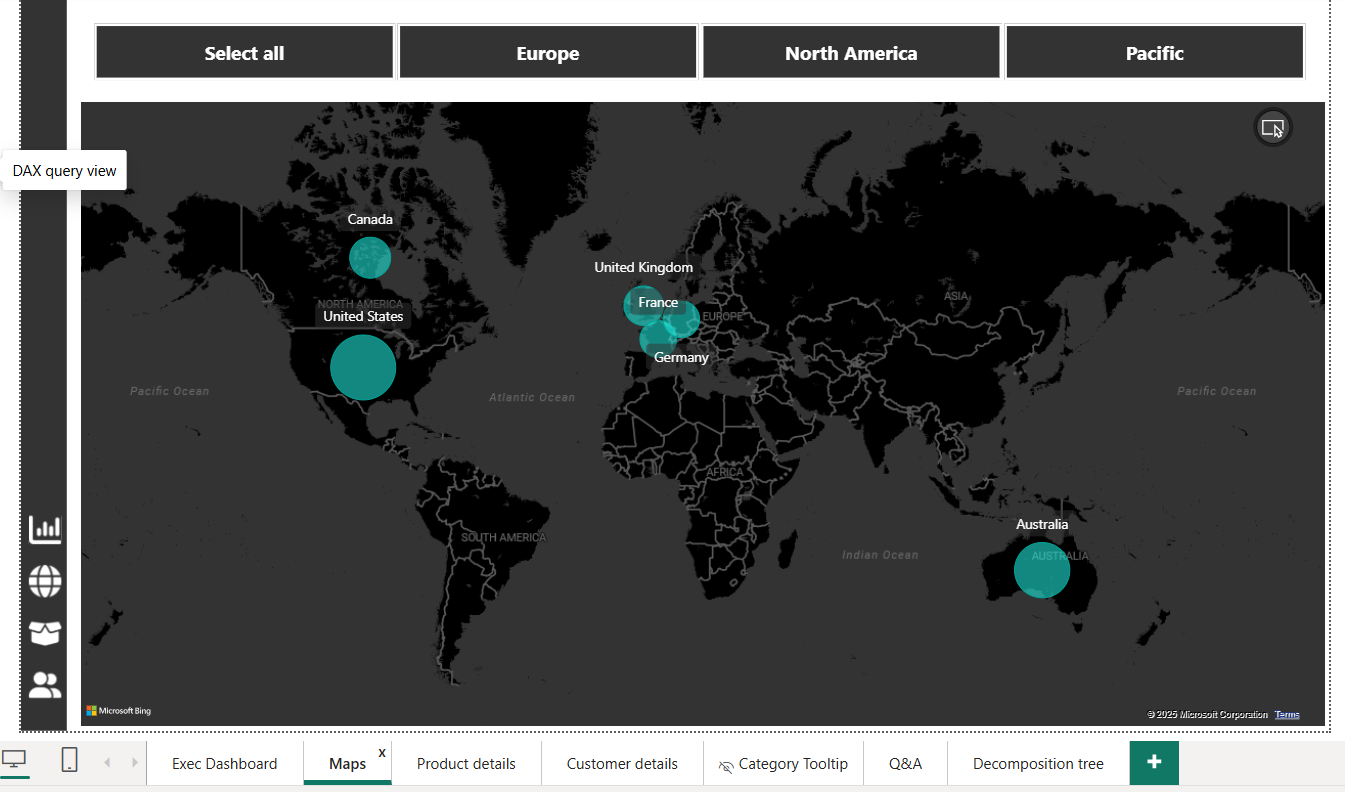

Layout of this report page (visuals, bound fields, positions):
{"tool":"powerbi","page":{"name":"Maps","canvas":[1280,720],"ordinal":1},"visuals":[{"type":"shape","box":[0,0,45,719.8],"z":0},{"type":"actionButton","box":[3.1,603.8,39.8,41.1],"z":0,"group":"g1"},{"type":"actionButton","box":[3.1,502.6,39.8,41.1],"z":1000,"group":"g1"},{"type":"map","fields":{"Category":["Territory Lookup.Country"],"Size":["Measure Table.Total Orders"]},"box":[53.5,100.8,1226.5,619.5],"z":1000},{"type":"slicer","fields":{"Values":["Territory Lookup.Continent"]},"box":[44.8,21.1,1235.3,69.7],"z":2000},{"type":"actionButton","box":[3.1,553.2,39.8,41.1],"z":2000,"group":"g1"},{"type":"actionButton","box":[3.1,654.4,39.8,41.1],"z":3000,"group":"g1"},{"type":"group","id":"g1","title":"Navigation buttons","box":[3.1,502.6,39.8,192.8],"z":3000}]}

Visuals, with their boxes on the page's 1280x720 design canvas (x1, y1, x2, y2). These are canvas units, not pixel positions in the 1345x792 screenshot, which may show the page scaled, cropped or inside an application window:
shape: 0 0 45 720
actionButton: 3 604 43 645
actionButton: 3 503 43 544
map - Territory Lookup.Country x Measure Table.Total Orders: 54 101 1280 720
slicer - Territory Lookup.Continent: 45 21 1280 91
actionButton: 3 553 43 594
actionButton: 3 654 43 696
"Navigation buttons" group: 3 503 43 695
